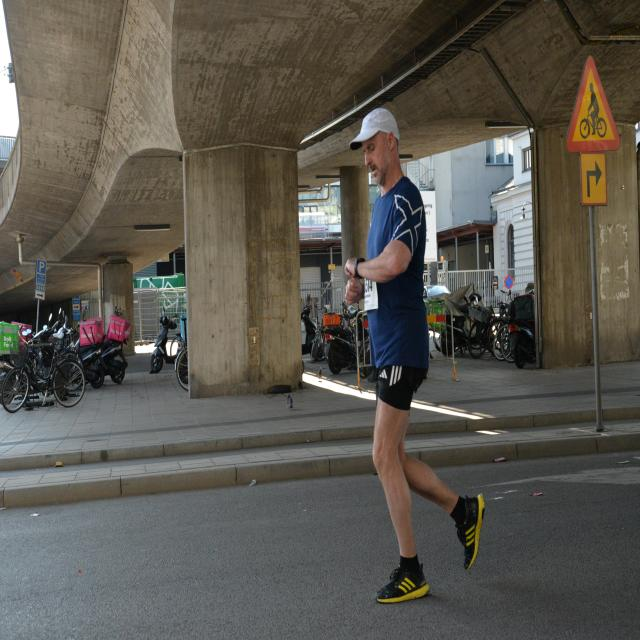runner-detect: (336, 92, 490, 617)
